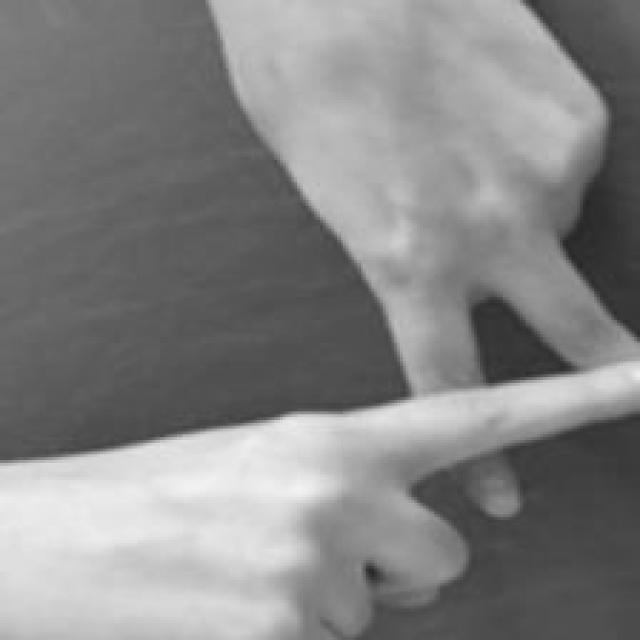A: (206, 2, 640, 640)
